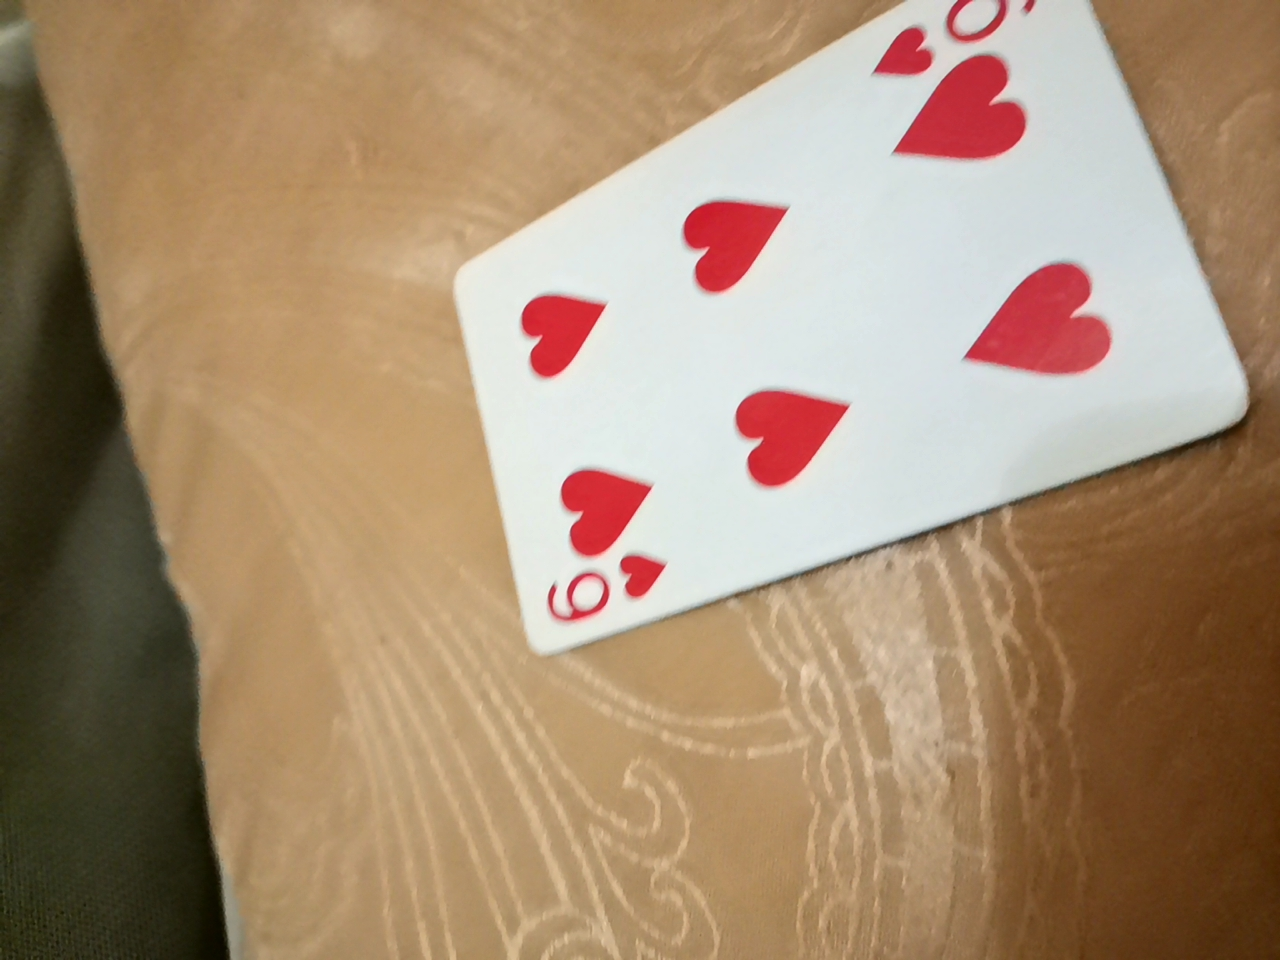hx 6: (457, 11, 1268, 619)
